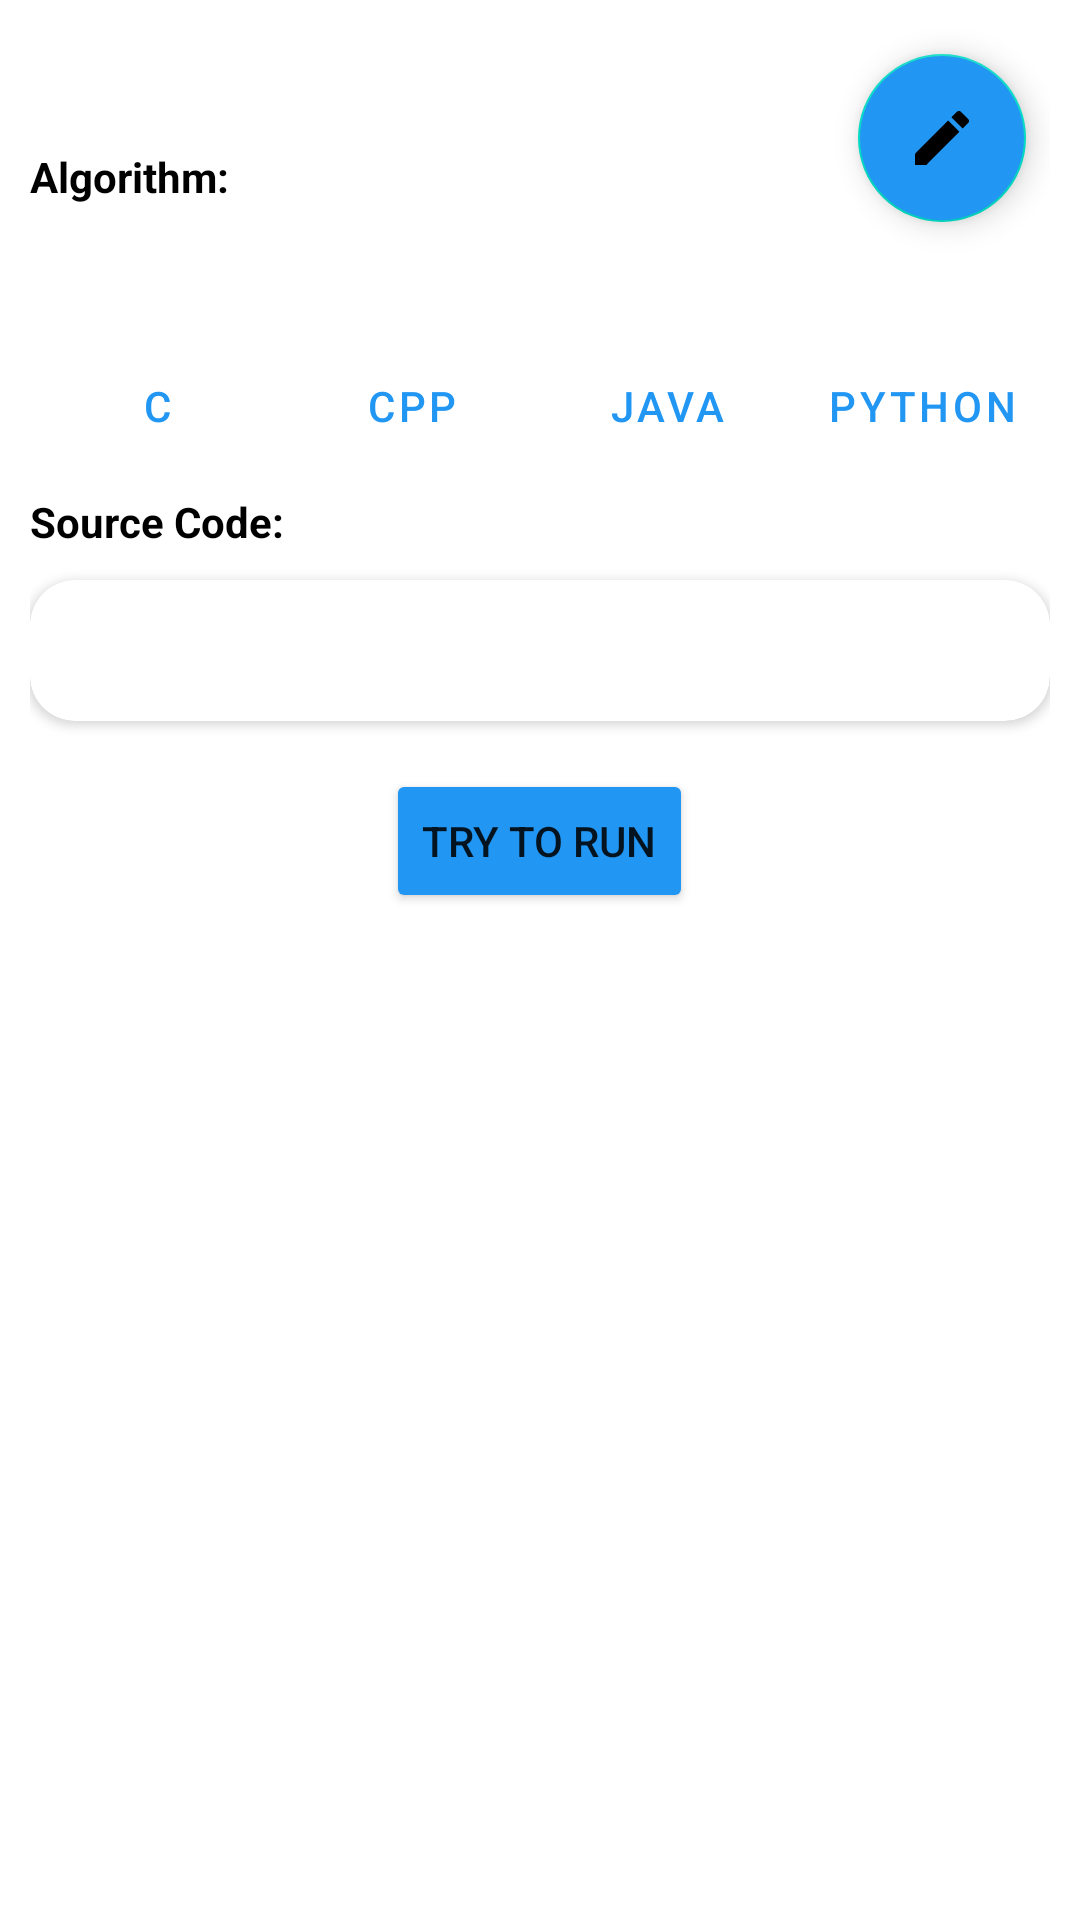

Where to tap for icons on this 1080*1920 app screen, as [x,y]:
Edit button: [942,138]
